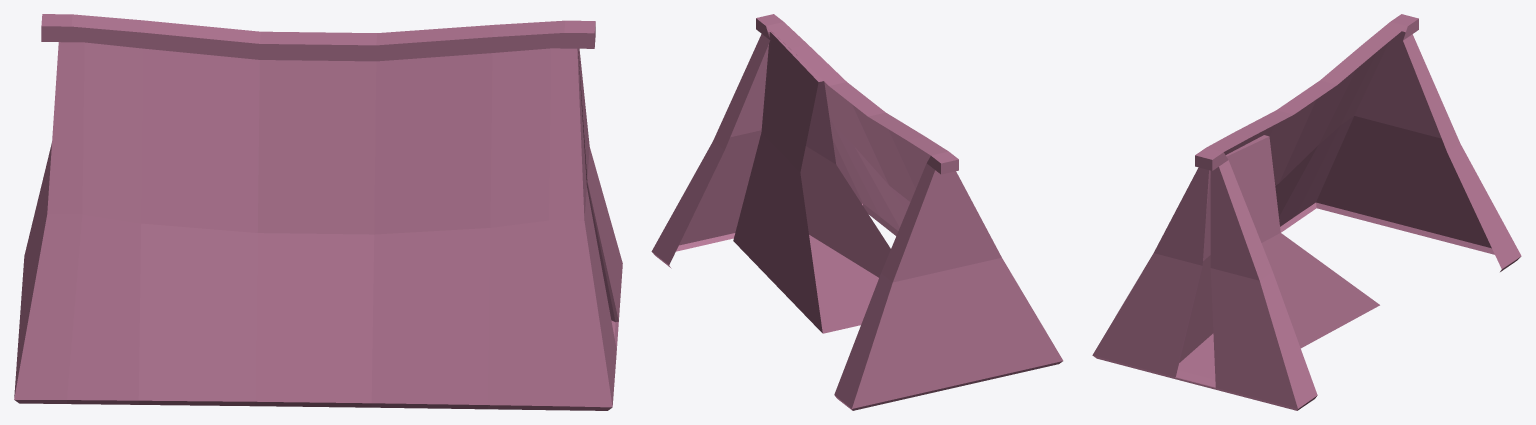
The model's file is s_tent.fbx.
3 views of the same model, side by side, from view 1: azimuth 30°, elevation 25°; view 2: azimuth 150°, elevation 25°; view 3: azimuth 270°, elevation 25° (orthographic). The views are drawn at different scales.
Parts seen in each view (by area): view 1: tent; view 2: tent; view 3: tent.
Boxes of the visible parts, x1=… form: tent: x1=14, y1=14, x2=622, y2=410; tent: x1=651, y1=14, x2=1063, y2=410; tent: x1=1092, y1=14, x2=1521, y2=410.
Bounding box in the file's own units: 1.99 × 1 × 1.75.
